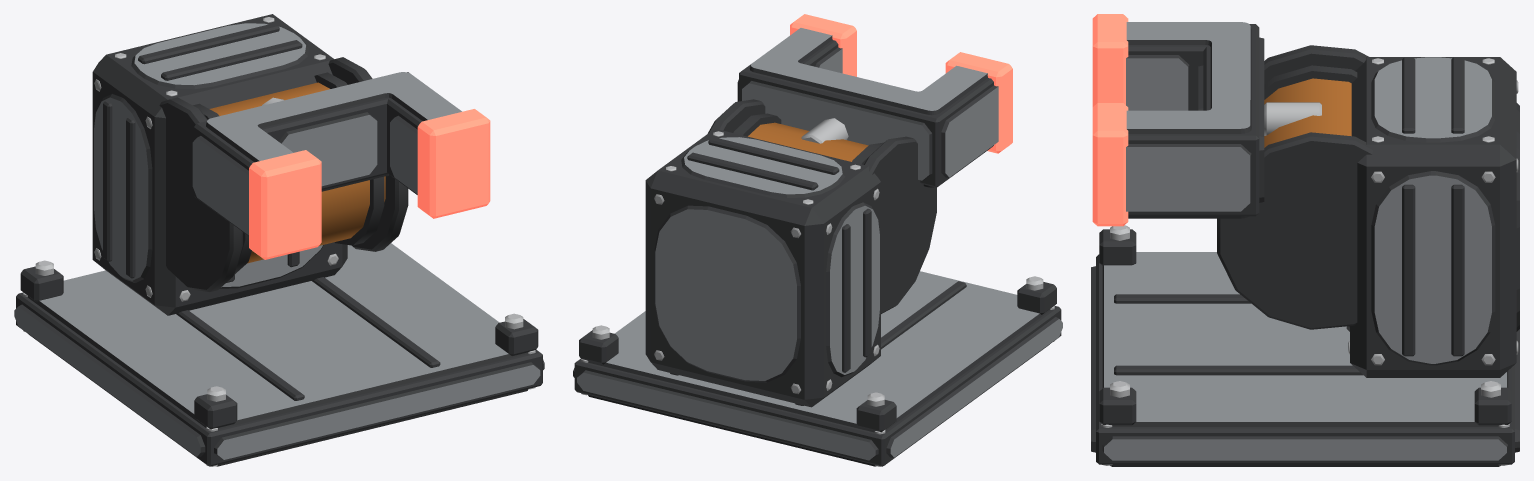
Rendered from R4X_MagneticGrapple.fbx.
The picture shows the model from 3 angles, left to right: view 1: azimuth 30°, elevation 25°; view 2: azimuth 150°, elevation 25°; view 3: azimuth 270°, elevation 25°; orthographic projection. The views are drawn at different scales.
Visible parts, largest first — view 1: R4X_MagneticGrapple_Body; view 2: R4X_MagneticGrapple_Body; view 3: R4X_MagneticGrapple_Body.
Boxes of the visible parts, x1,y1,x2,y2 form: R4X_MagneticGrapple_Body: (14,14,544,466); R4X_MagneticGrapple_Body: (573,14,1062,466); R4X_MagneticGrapple_Body: (1091,14,1519,466).
Size of the model in its own units: 0.52 by 0.414 by 0.52.
